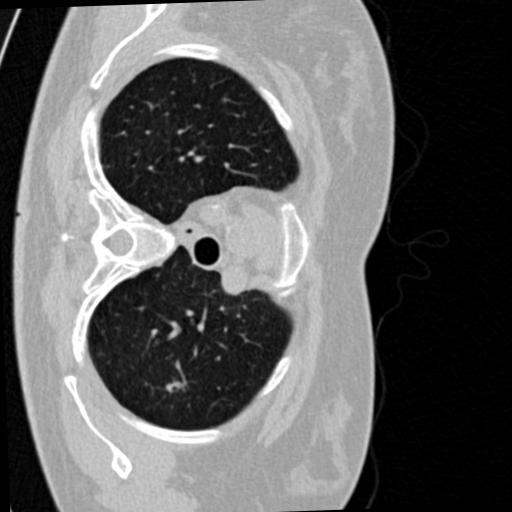nodule: (167, 381, 185, 399)
